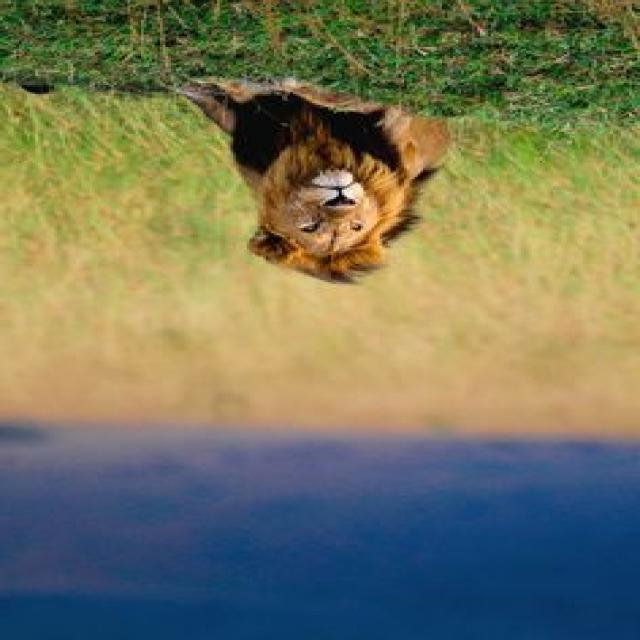lions: (88, 32, 540, 334)
